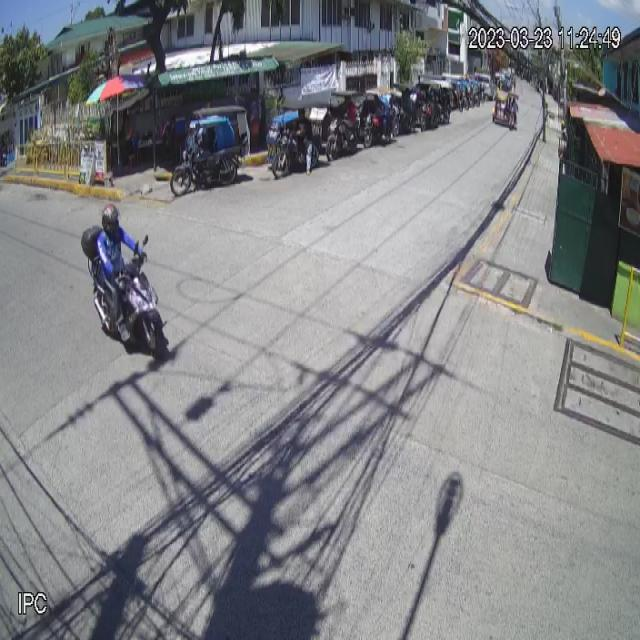Motorcycle: (80, 224, 170, 358)
Tricycle: (169, 105, 252, 197)
